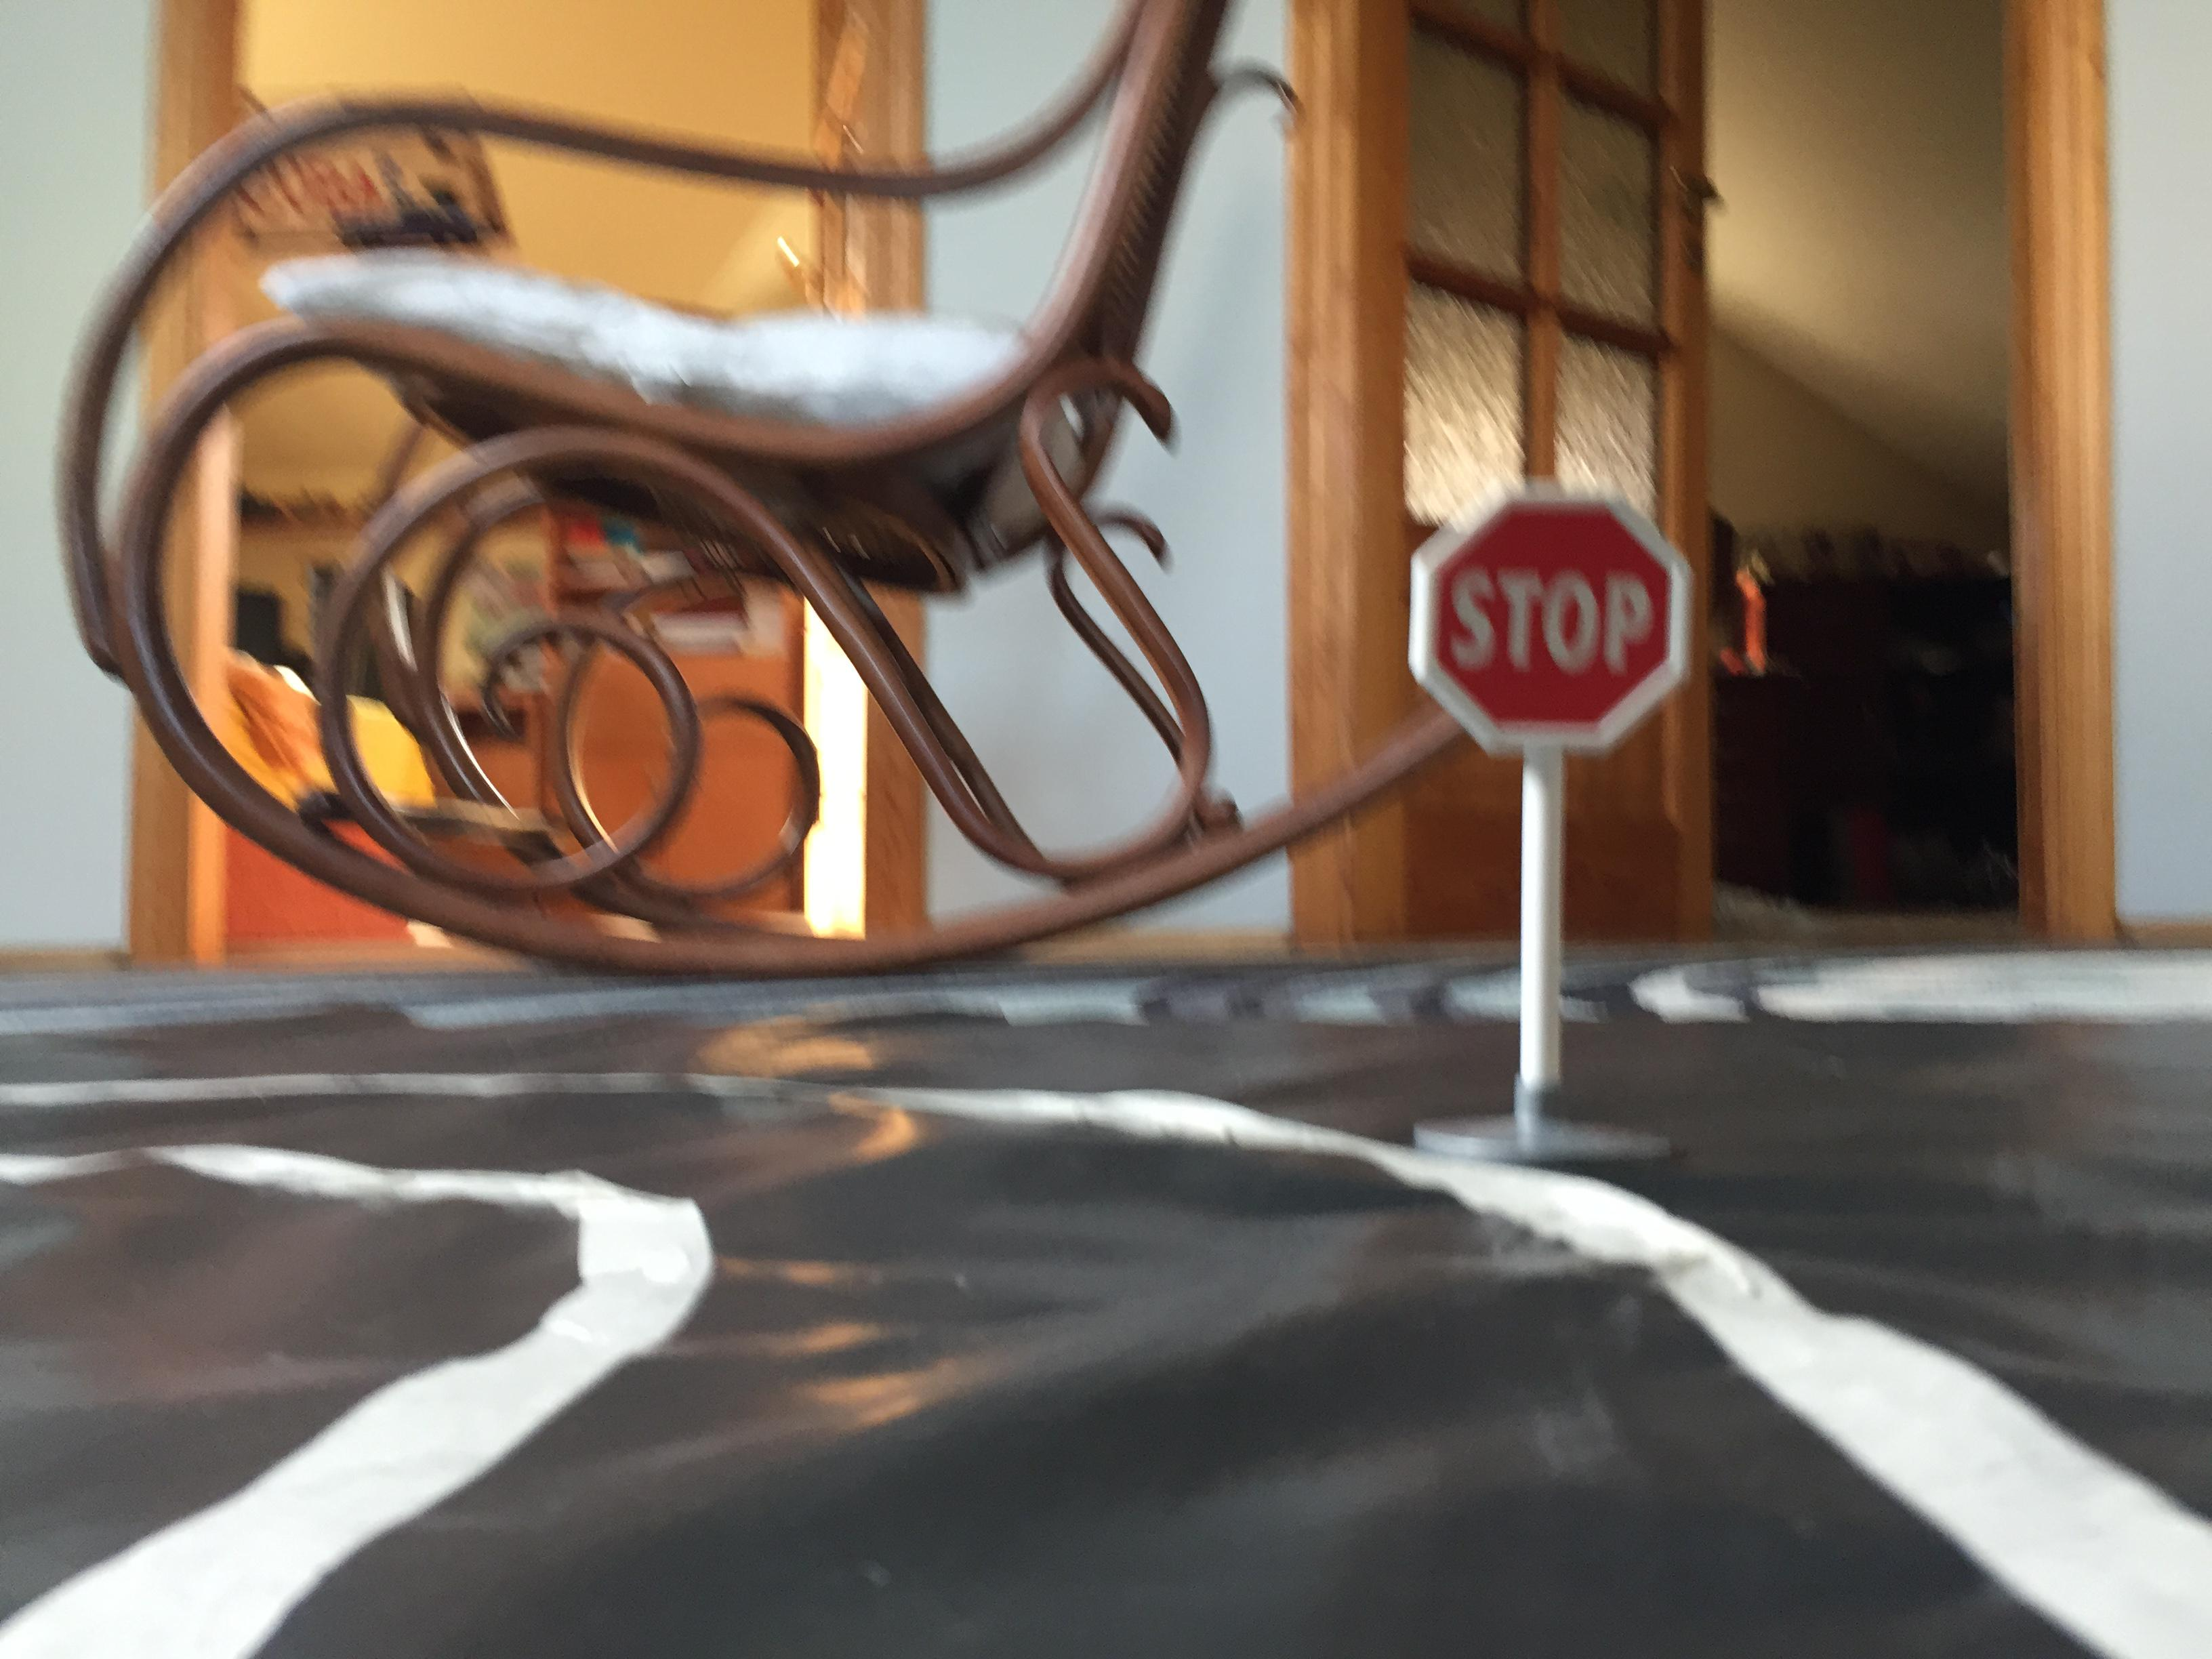stop: (1390, 479, 1707, 772)
